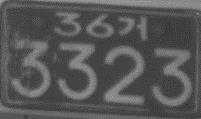2: (104, 45, 146, 106)
3: (55, 40, 98, 101), (152, 46, 193, 107), (9, 39, 51, 98), (52, 10, 81, 37)
6: (85, 11, 114, 39)
거: (117, 14, 148, 42)
